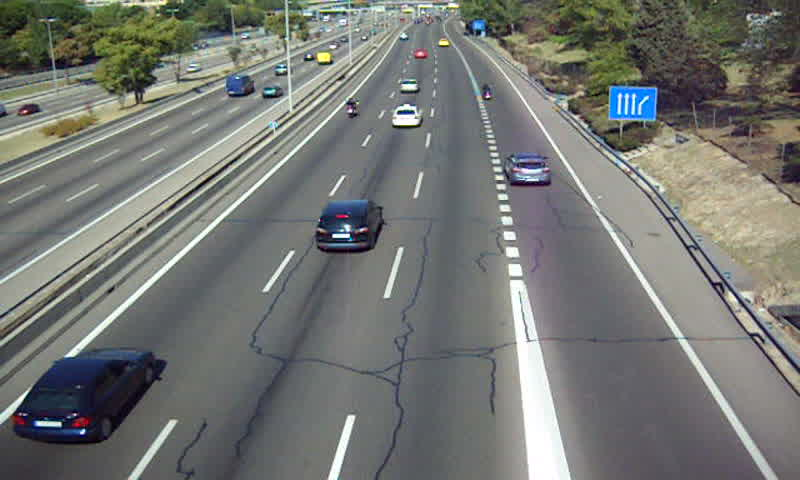car: (14, 351, 154, 442), (315, 200, 384, 251), (504, 154, 551, 187), (391, 104, 421, 128), (399, 78, 420, 93), (411, 49, 429, 60)
motorcycle: (344, 97, 360, 120), (480, 82, 492, 101)
